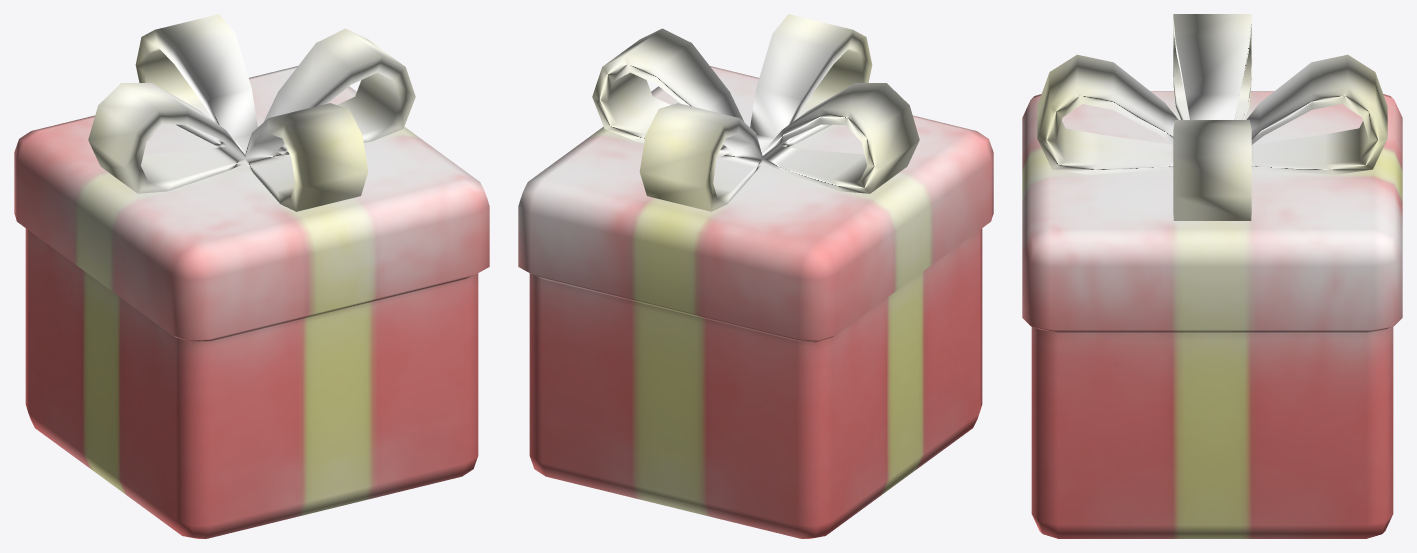
File: Gift_A.fbx
3 views of the same model, side by side, from view 1: azimuth 30°, elevation 25°; view 2: azimuth 150°, elevation 25°; view 3: azimuth 270°, elevation 25° (orthographic). The views are drawn at different scales.
Parts seen in each view (by area): view 1: GiftA; view 2: GiftA; view 3: GiftA.
Part boxes in pixels (x1,y1,x2,y2): GiftA: [14, 14, 489, 538]; GiftA: [518, 14, 993, 538]; GiftA: [1022, 14, 1402, 538].
Size of the model in its own units: 46.83 by 54.58 by 46.83.
1 material, 1 textured.
